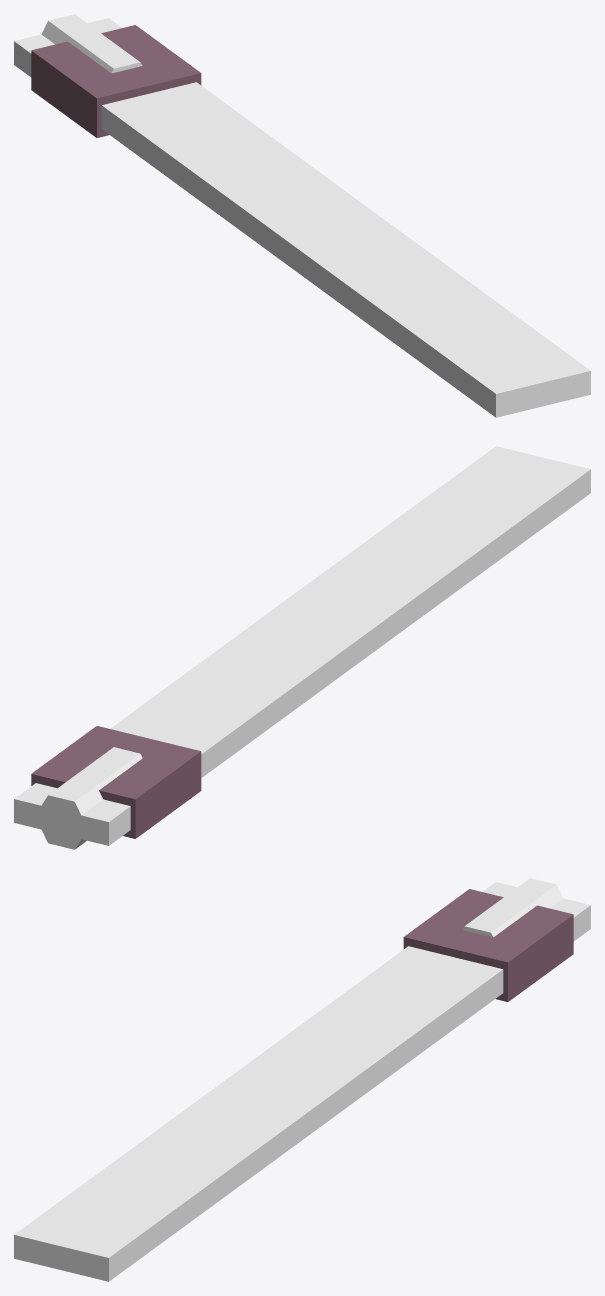
Rendered from SM_NPC_Prop_MikoWand.glb.
3 views of the same model, one above another, from view 1: azimuth 30°, elevation 25°; view 2: azimuth 150°, elevation 25°; view 3: azimuth 330°, elevation 25° (orthographic).
Parts seen in each view (by area): view 1: asset_npc_prop_miko_wand; view 2: asset_npc_prop_miko_wand; view 3: asset_npc_prop_miko_wand.
Part boxes in pixels (box(x1,y1,x2,y2)): asset_npc_prop_miko_wand: box(14, 14, 590, 417); asset_npc_prop_miko_wand: box(14, 446, 590, 849); asset_npc_prop_miko_wand: box(14, 878, 590, 1281).
Size of the model in its own units: 0.055 by 0.0242 by 0.44.
1 material, 1 textured.
